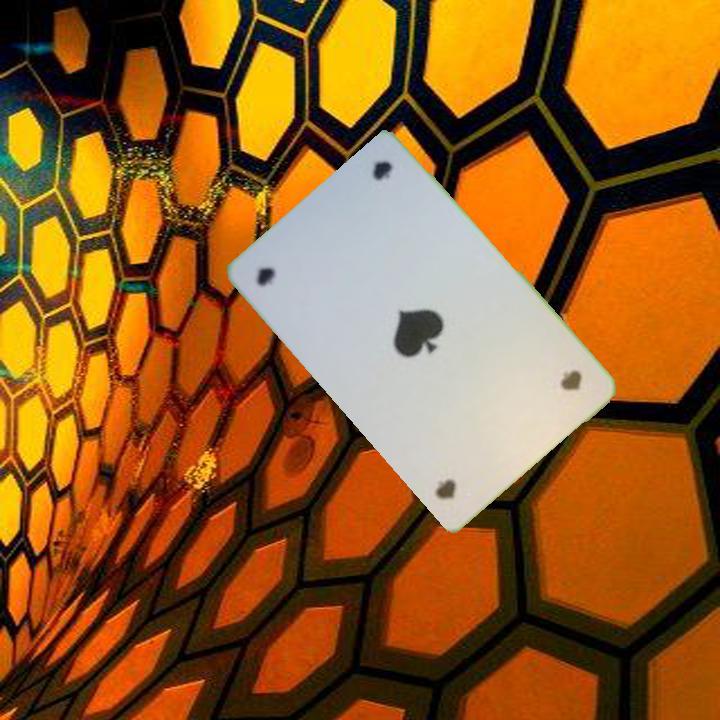s_a.png: (470, 324, 599, 453), (244, 208, 373, 336)
